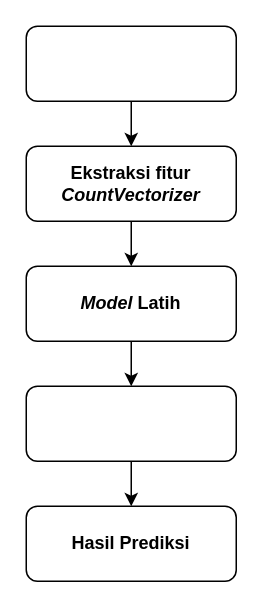
The diagram is 263 pixels wide and 608 high, and some of its shapes have lost their labels. The shapes that lost their labels are listed below. From the top down, each one's centre as x and y in pixels, then its label:
At (x=130, y=63): "Seleksi Data Latih".
At (x=130, y=423): "Klasifikasi K-Nearest Neighbors".
